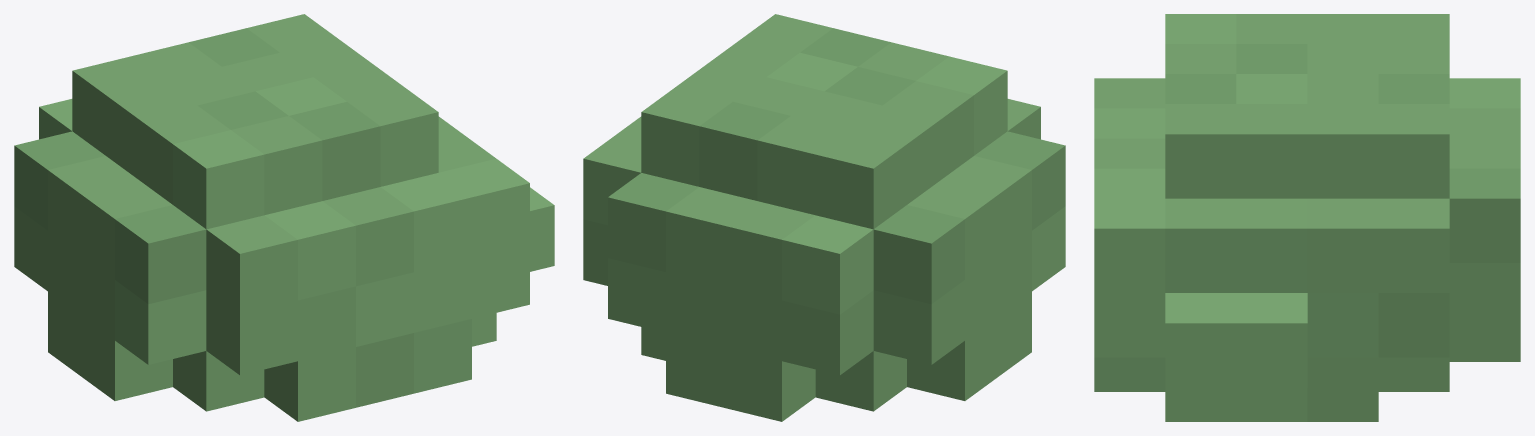
Rendered from buisson_0.glb.
3 views of the same model, side by side, from view 1: azimuth 30°, elevation 25°; view 2: azimuth 150°, elevation 25°; view 3: azimuth 270°, elevation 25° (orthographic). The views are drawn at different scales.
Visible parts, largest first — view 1: geometry_0; view 2: geometry_0; view 3: geometry_0.
Part boxes in pixels (x1,y1,x2,y2): geometry_0: (14, 14, 554, 421); geometry_0: (583, 14, 1065, 421); geometry_0: (1094, 14, 1520, 421).
Size of the model in its own units: 1.75 by 1 by 1.5.
